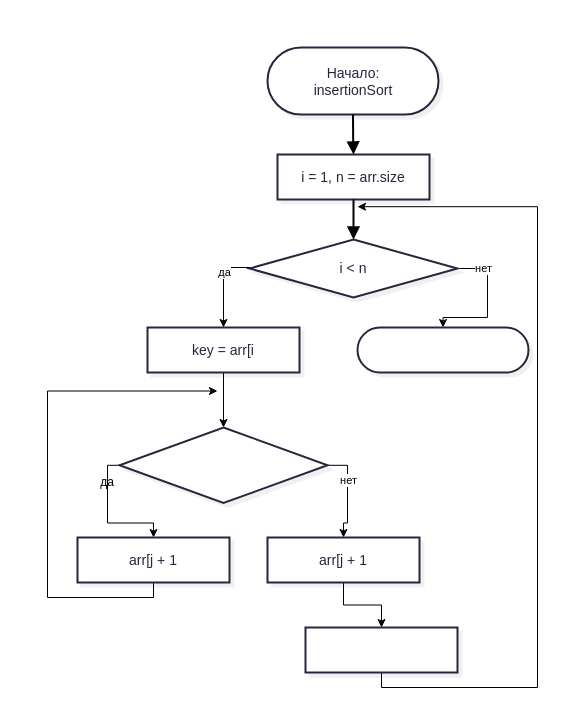
Some shapes in this 563 by 713 pixel diagram are drawn without their labels. The shapes that lost their labels are listed below. From the top down, each one's centre as x and y in pixels, then its label:
At (444,351): "Конец".
At (225,467): "j >= 0 && arr[j] > key".
At (383,651): "i++".
